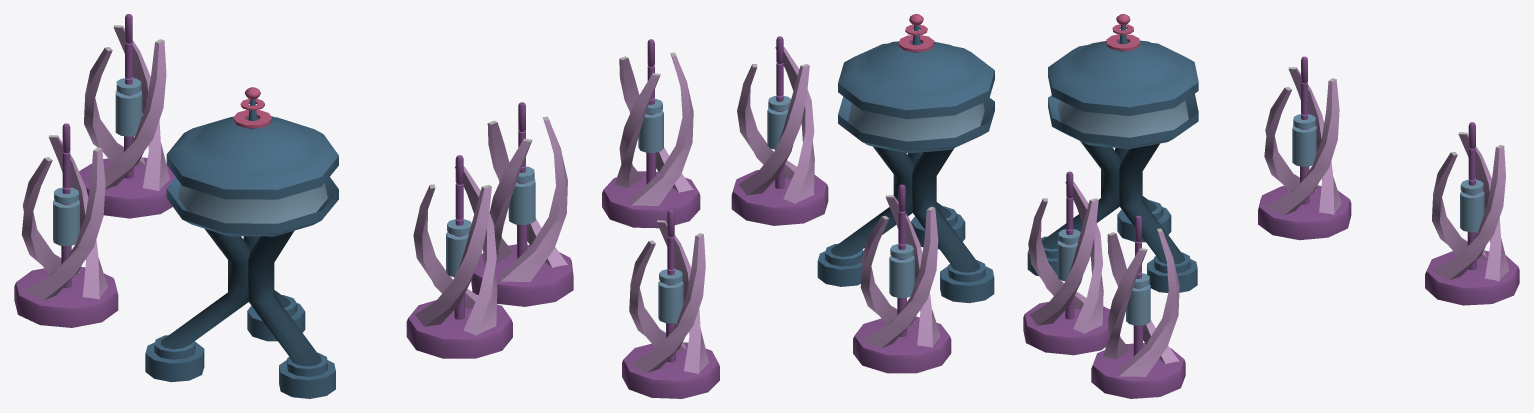
Rendered from Tech_05.fbx.
3 renders of one model, left to right at view 1: azimuth 30°, elevation 25°; view 2: azimuth 150°, elevation 25°; view 3: azimuth 270°, elevation 25°, orthographic. The views are drawn at different scales.
Parts seen in each view (by area): view 1: Tech_05_good; view 2: Tech_05_good; view 3: Tech_05_good.
Part boxes in pixels (box(x1,y1,x2,y2)): Tech_05_good: box(14, 14, 573, 398); Tech_05_good: box(602, 14, 994, 398); Tech_05_good: box(1023, 14, 1519, 398).
Bounding box in the file's own units: 65.86 × 37.9 × 69.4.
